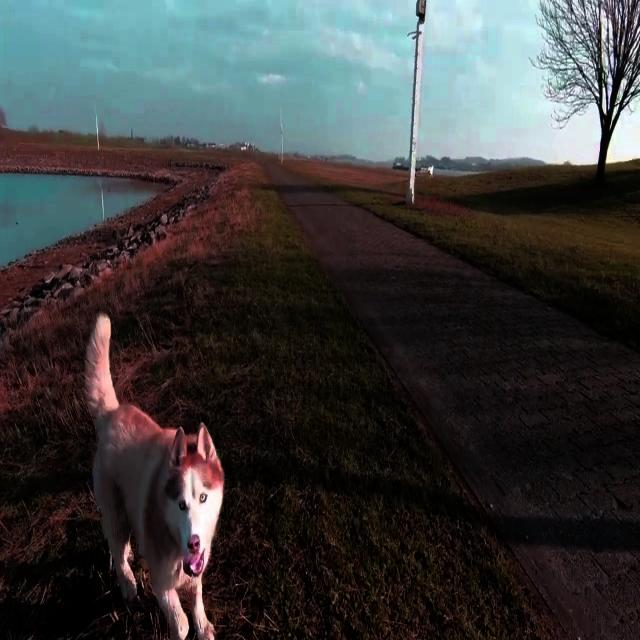Dog: (83, 313, 224, 640)
